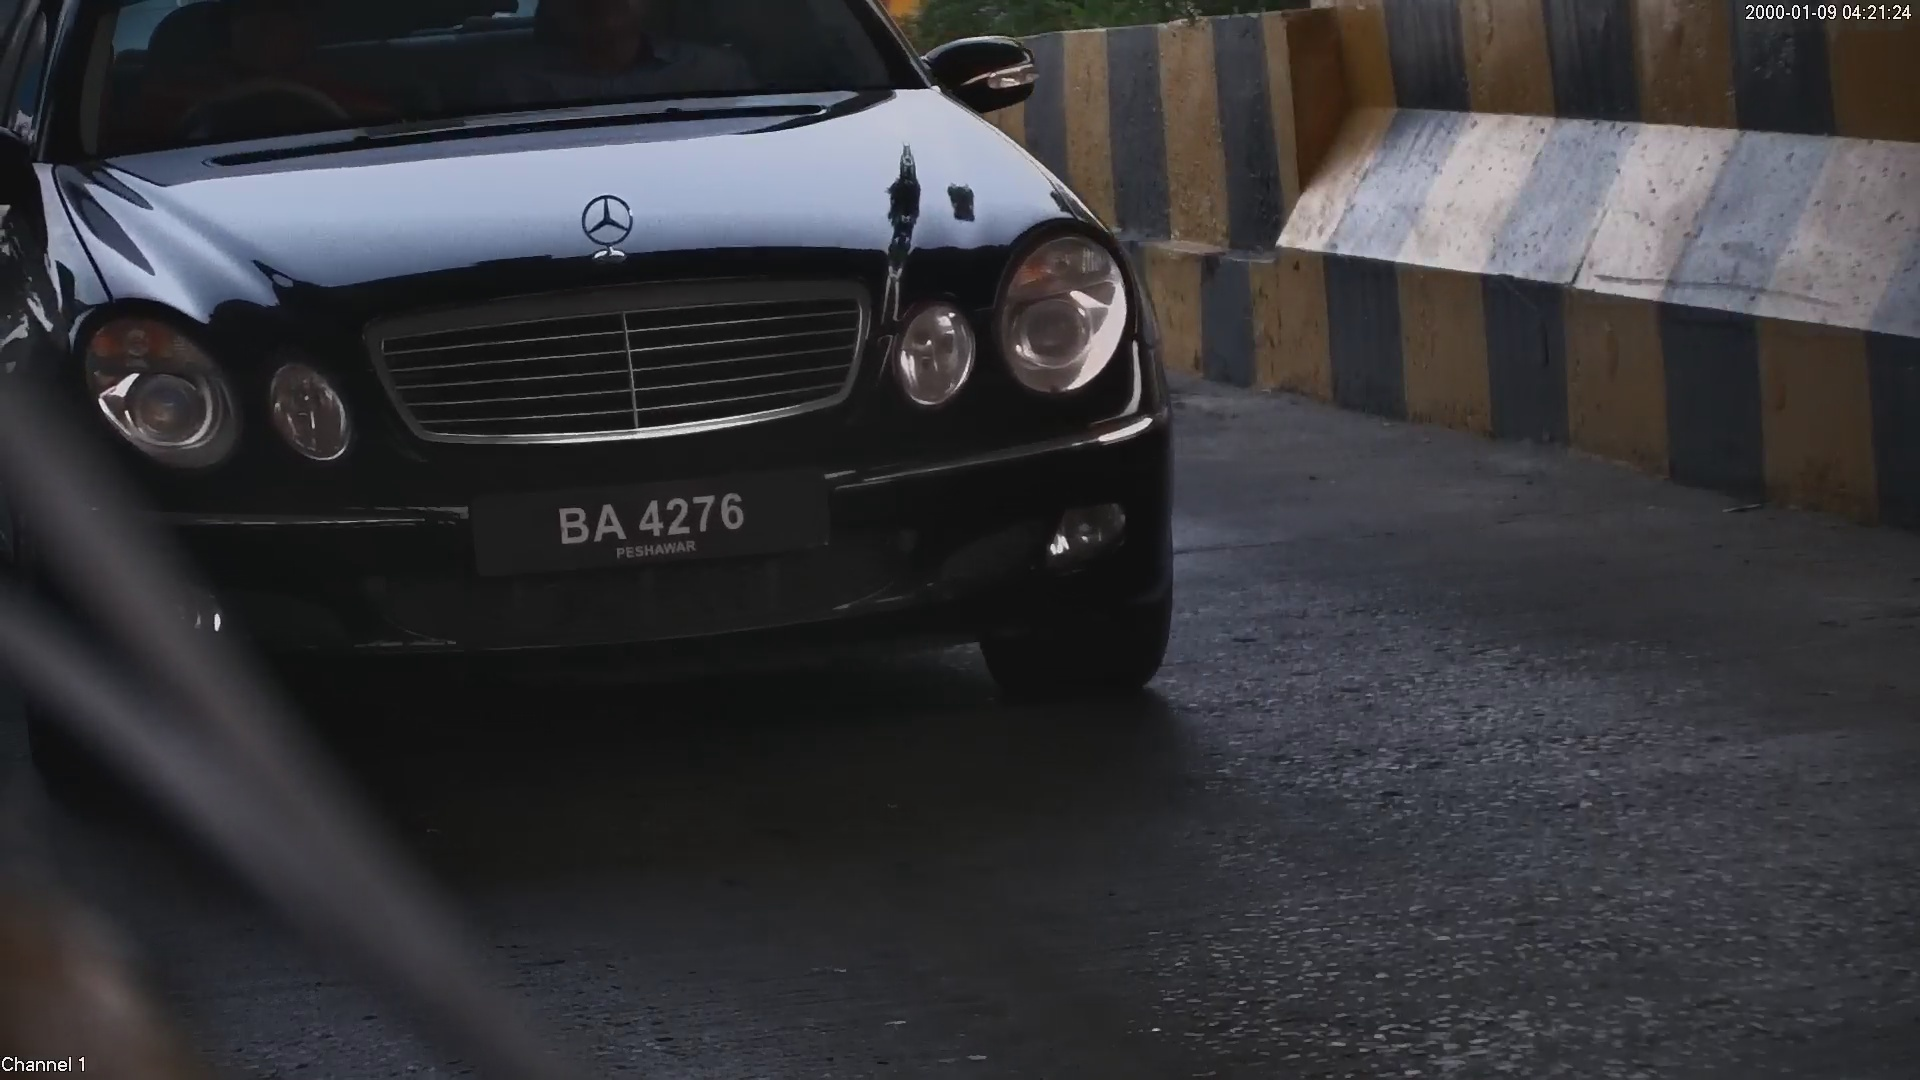Number_Plate: (456, 475, 858, 570)
Undefined: (71, 299, 350, 459), (880, 223, 1137, 394)
